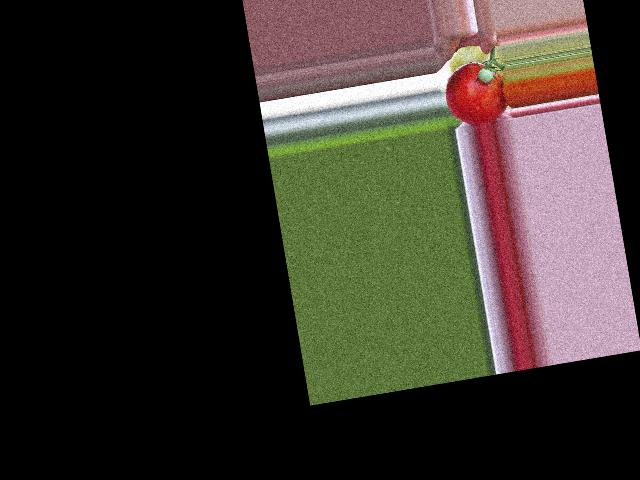tomato: (441, 57, 510, 129)
